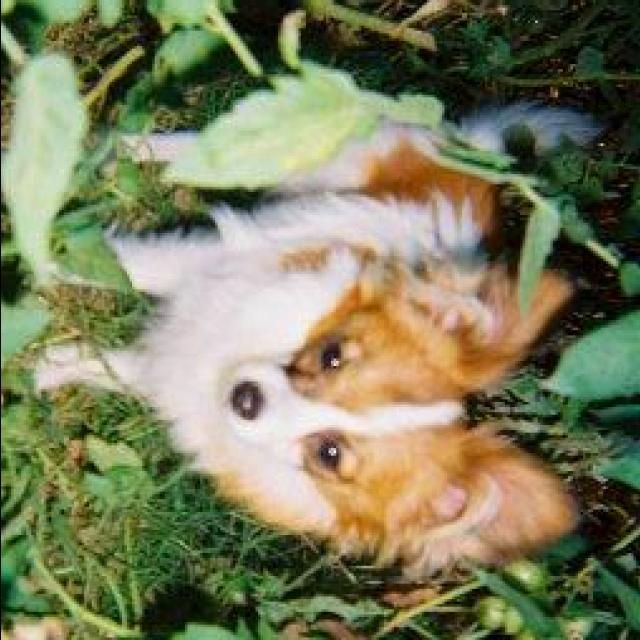papillon: (31, 92, 574, 574)
